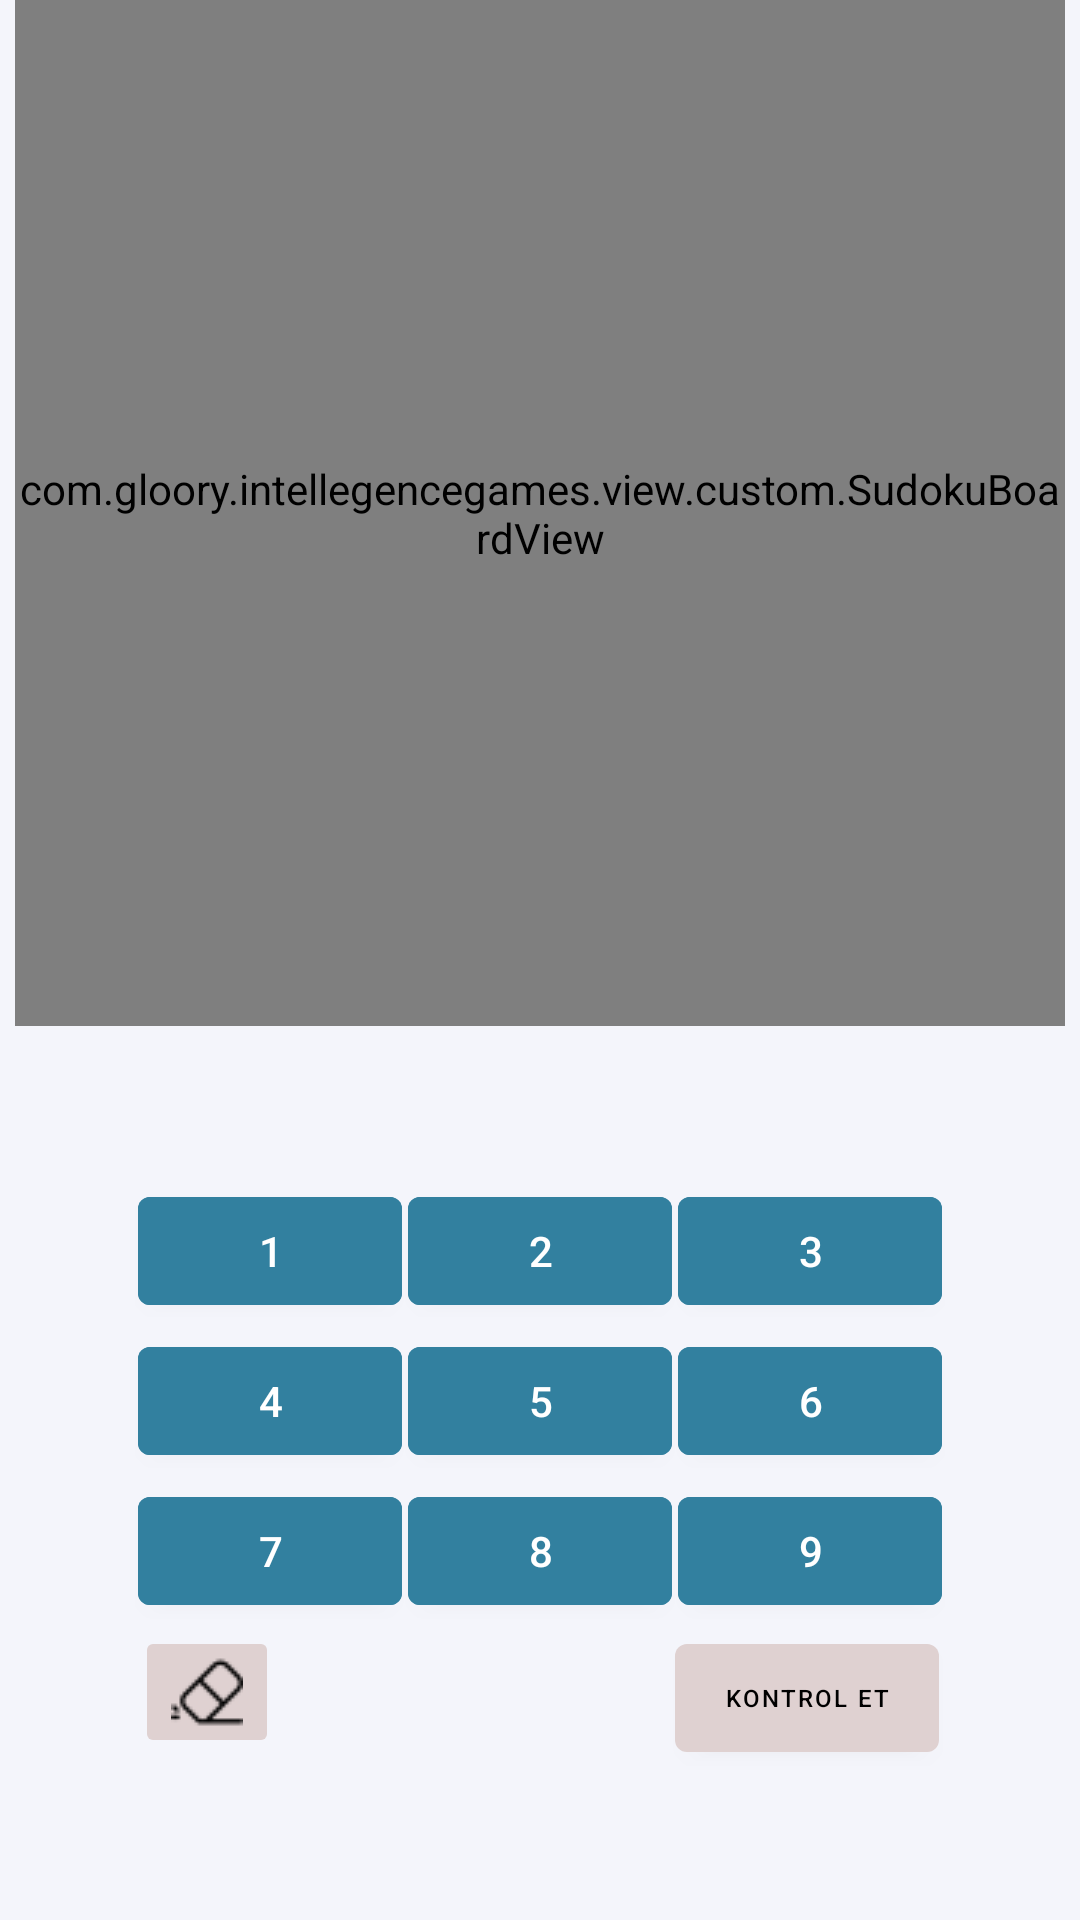

Named icons in this screenshot (1080w x 1920h) and their bounding boxes, bbox=[x1, y1, x2, y2]:
eraser: bbox=[147, 1644, 267, 1740]
